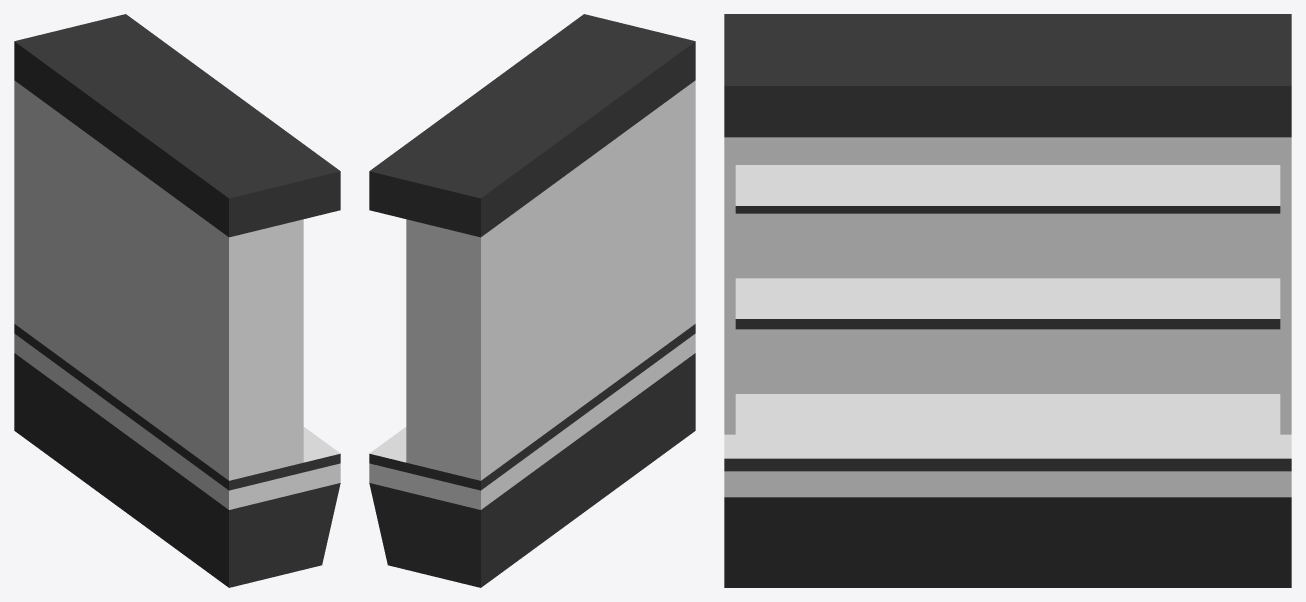
Rendered from SM_Build_Kuehlregal_Offen.fbx.
3 views of the same model, side by side, from view 1: azimuth 30°, elevation 25°; view 2: azimuth 150°, elevation 25°; view 3: azimuth 270°, elevation 25° (orthographic). The views are drawn at different scales.
Parts seen in each view (by area): view 1: Kühlregal Offen; view 2: Kühlregal Offen; view 3: Kühlregal Offen.
Boxes of the visible parts, <box> form: Kühlregal Offen: <box>14,14,340,587</box>; Kühlregal Offen: <box>369,14,695,587</box>; Kühlregal Offen: <box>724,14,1291,587</box>.
Size of the model in its own units: 0.6 by 2 by 2.
